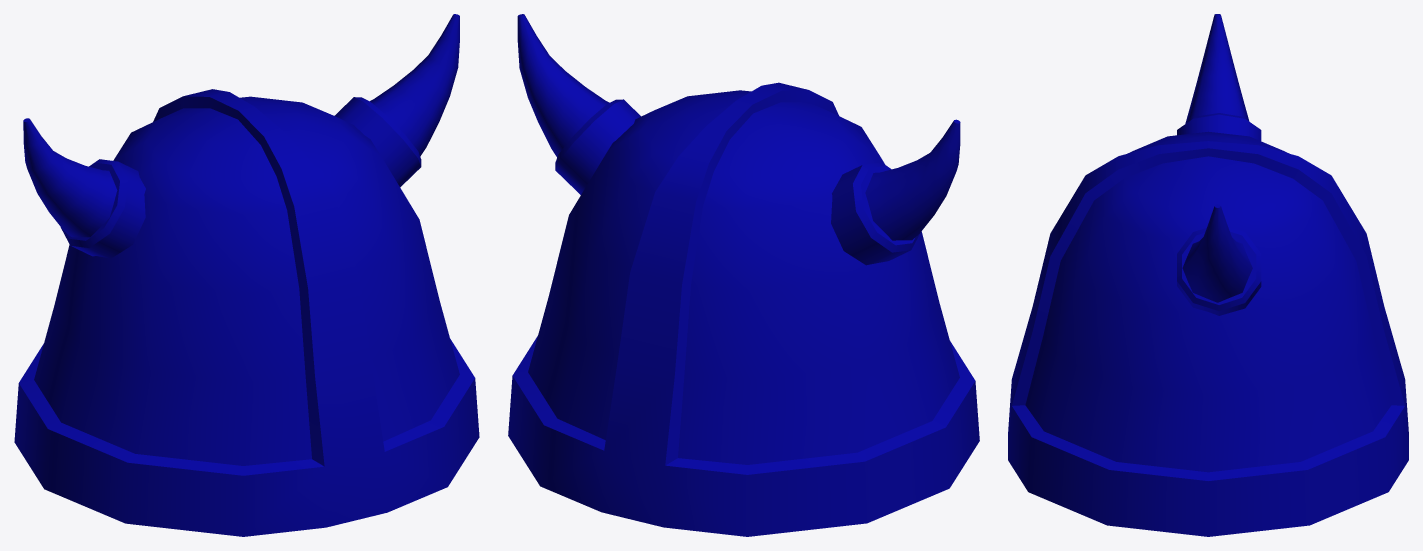
The model's file is VikingHat_01.fbx.
3 views of the same model, side by side, from view 1: azimuth 30°, elevation 25°; view 2: azimuth 150°, elevation 25°; view 3: azimuth 270°, elevation 25° (orthographic). The views are drawn at different scales.
Visible parts, largest first — view 1: VikingHat_01; view 2: VikingHat_01; view 3: VikingHat_01.
Boxes of the visible parts, x1,y1,x2,y2 form: VikingHat_01: (14,14,479,536); VikingHat_01: (508,14,979,536); VikingHat_01: (1008,14,1408,536).
Bounding box in the file's own units: 66.88 × 54.16 × 58.37.
